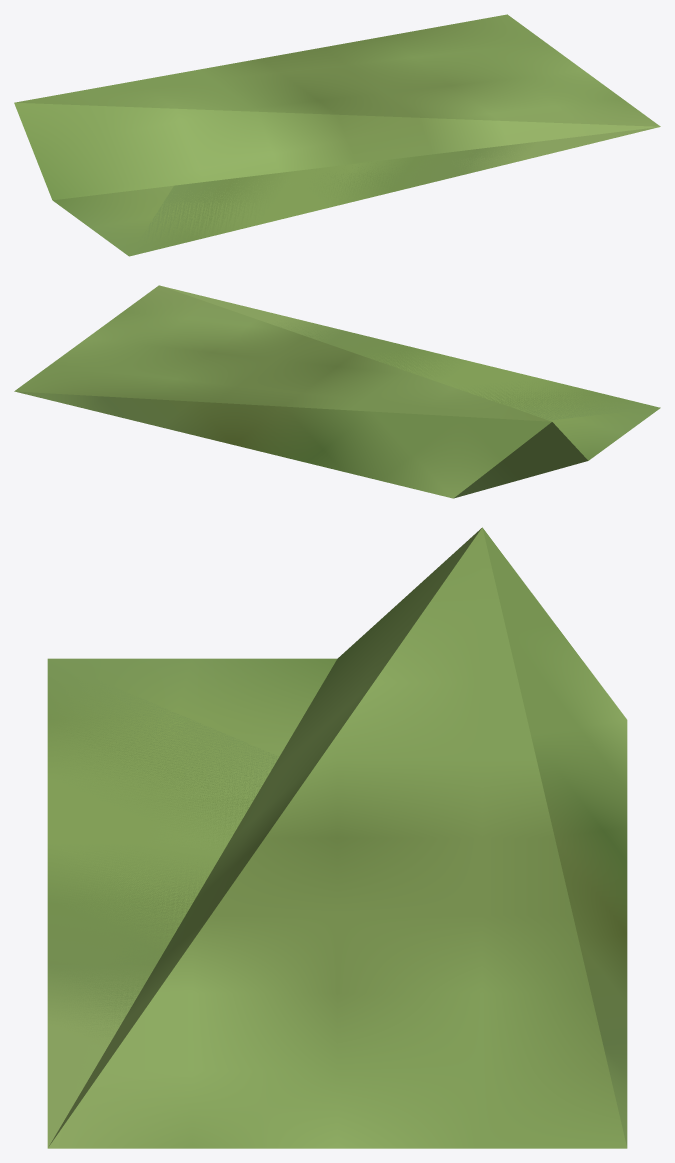
File: BuildingMesh-00087.gltf
The picture shows the model from 3 angles, top to bottom: view 1: azimuth 30°, elevation 25°; view 2: azimuth 150°, elevation 25°; view 3: azimuth 270°, elevation 25°; orthographic projection. The views are drawn at different scales.
Parts seen in each view (by area): view 1: BuildingMesh-00087; view 2: BuildingMesh-00087; view 3: BuildingMesh-00087.
Boxes of the visible parts, box(x1,y1,x2,y2) form: BuildingMesh-00087: box(14, 14, 660, 256); BuildingMesh-00087: box(14, 285, 660, 498); BuildingMesh-00087: box(47, 527, 627, 1148).
Bounding box in the file's own units: 0.0627 × 0.00784 × 0.0314.
Materials: 1 (1 with a texture image).
